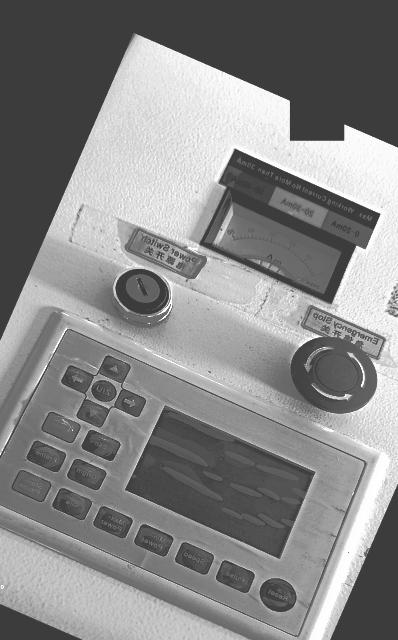Amp_Meter: (205, 194, 342, 295)
Display: (127, 407, 314, 558)
Down_button: (77, 399, 109, 427)
Emergency_Stop: (291, 337, 377, 414)
Enter_button: (42, 412, 80, 442)
Esc_button: (82, 431, 120, 461)
File_button: (53, 488, 91, 520)
Frame_button: (27, 441, 66, 472)
Left_button: (115, 389, 146, 417)
Max-Power_button: (94, 507, 132, 538)
Min-Power_button: (134, 525, 173, 556)
Origin_button: (67, 459, 106, 490)
Power_switch: (112, 268, 172, 327)
Pulse_button: (216, 561, 254, 593)
Reset_button: (260, 579, 296, 612)
Right_button: (62, 366, 93, 393)
Speed_button: (176, 543, 214, 574)
Start-Pause_button: (12, 471, 51, 501)
Up_button: (99, 356, 130, 383)
Z_U_button: (92, 381, 116, 401)
